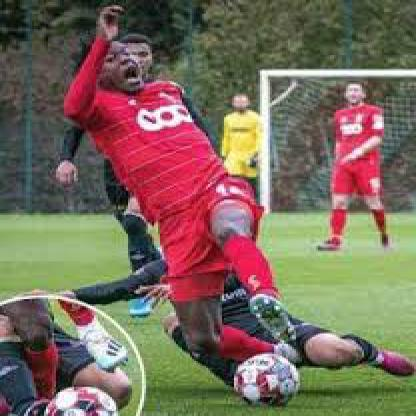Fall_Down: (60, 4, 300, 394)
